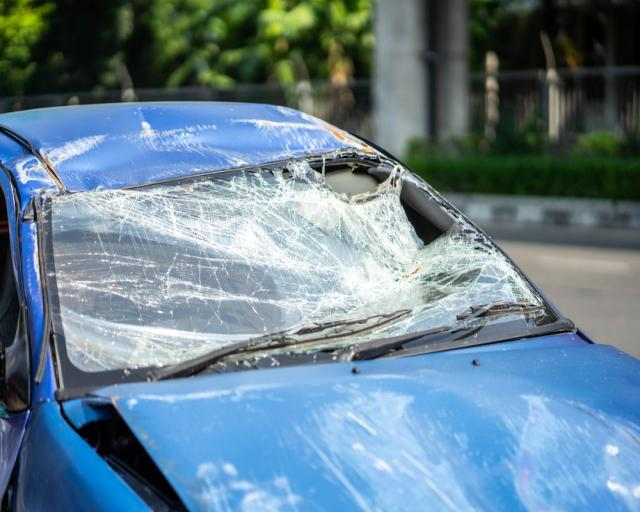glass shatter: (42, 151, 559, 388)
scratch: (196, 383, 640, 512), (18, 102, 375, 199)
